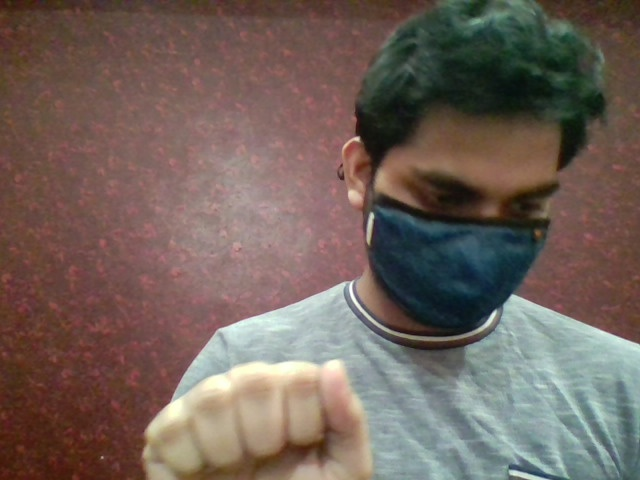a: (122, 354, 388, 480)
